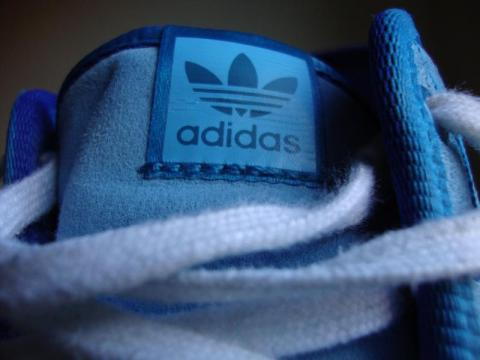addidas: (188, 52, 301, 118)
